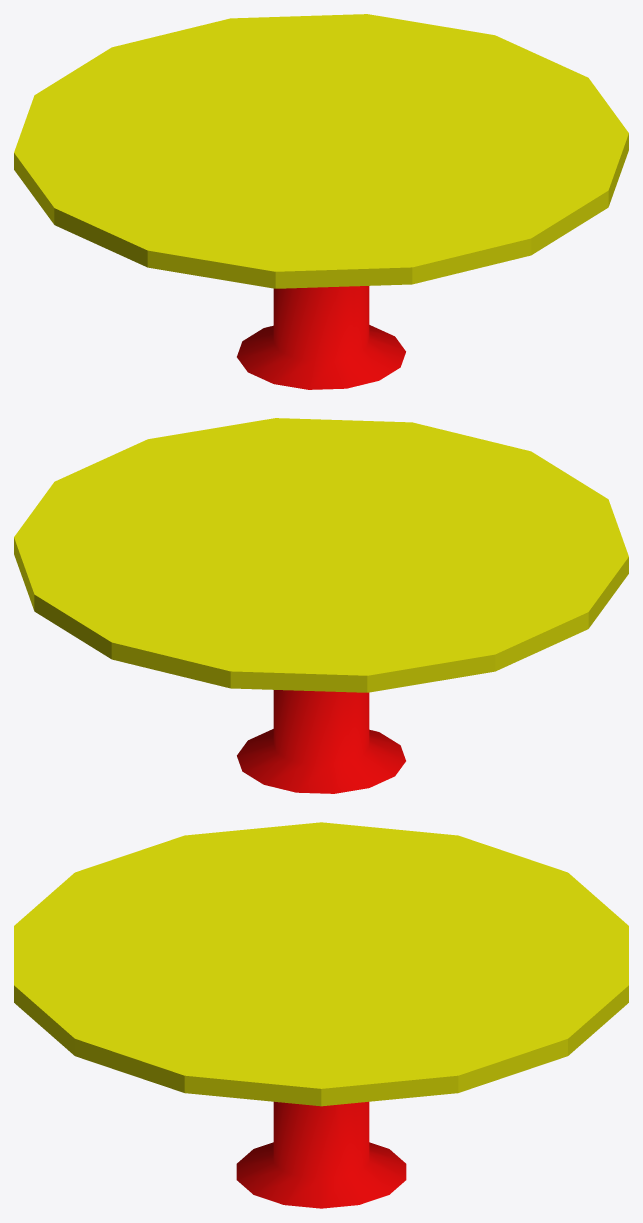
The model's file is LoungeTable_SM.fbx.
3 views of the same model, one above another, from view 1: azimuth 30°, elevation 25°; view 2: azimuth 150°, elevation 25°; view 3: azimuth 270°, elevation 25° (orthographic). The views are drawn at different scales.
Parts seen in each view (by area): view 1: polySurface1; view 2: polySurface1; view 3: polySurface1.
Boxes of the visible parts, x1,y1,x2,y2 form: polySurface1: (14, 14, 628, 389); polySurface1: (14, 418, 628, 793); polySurface1: (14, 822, 628, 1208).
Bounding box in the file's own units: 5.12 × 1.94 × 4.99.
